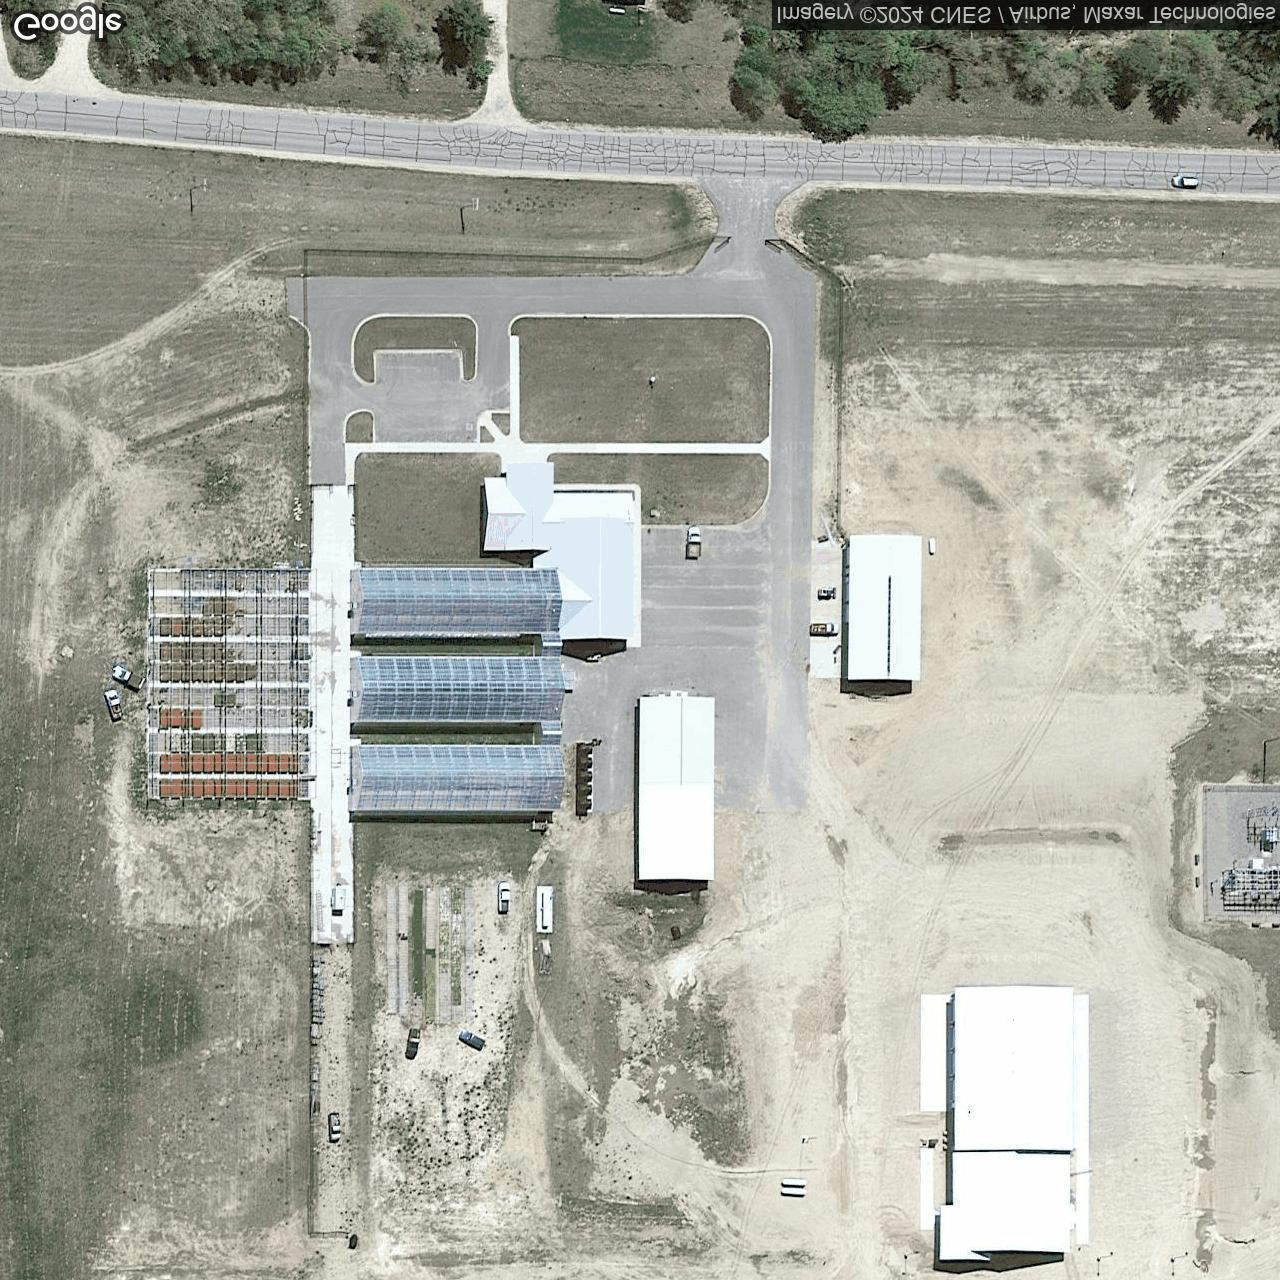Other: (349, 461, 635, 813), (937, 983, 1077, 1262), (635, 694, 717, 883), (846, 532, 924, 682)
Propane: (540, 891, 550, 931), (781, 1187, 808, 1199), (779, 1178, 808, 1189), (607, 6, 627, 16), (927, 536, 937, 557)
